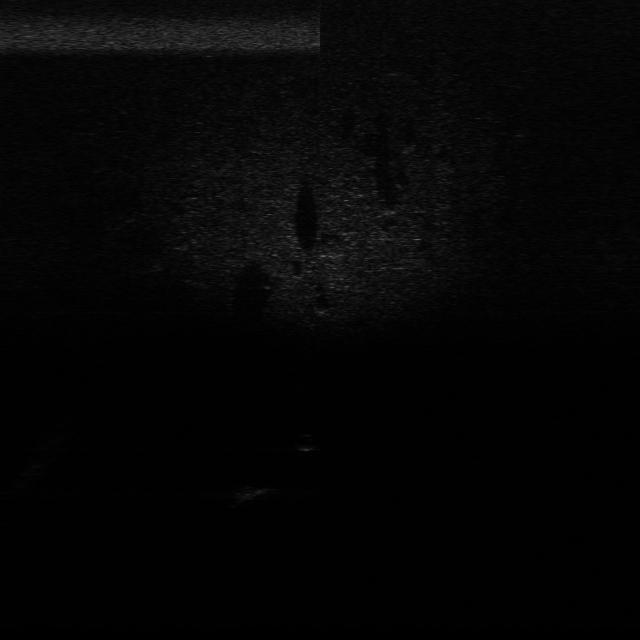ball: (292, 431, 321, 454)
square cage: (224, 484, 298, 504)
